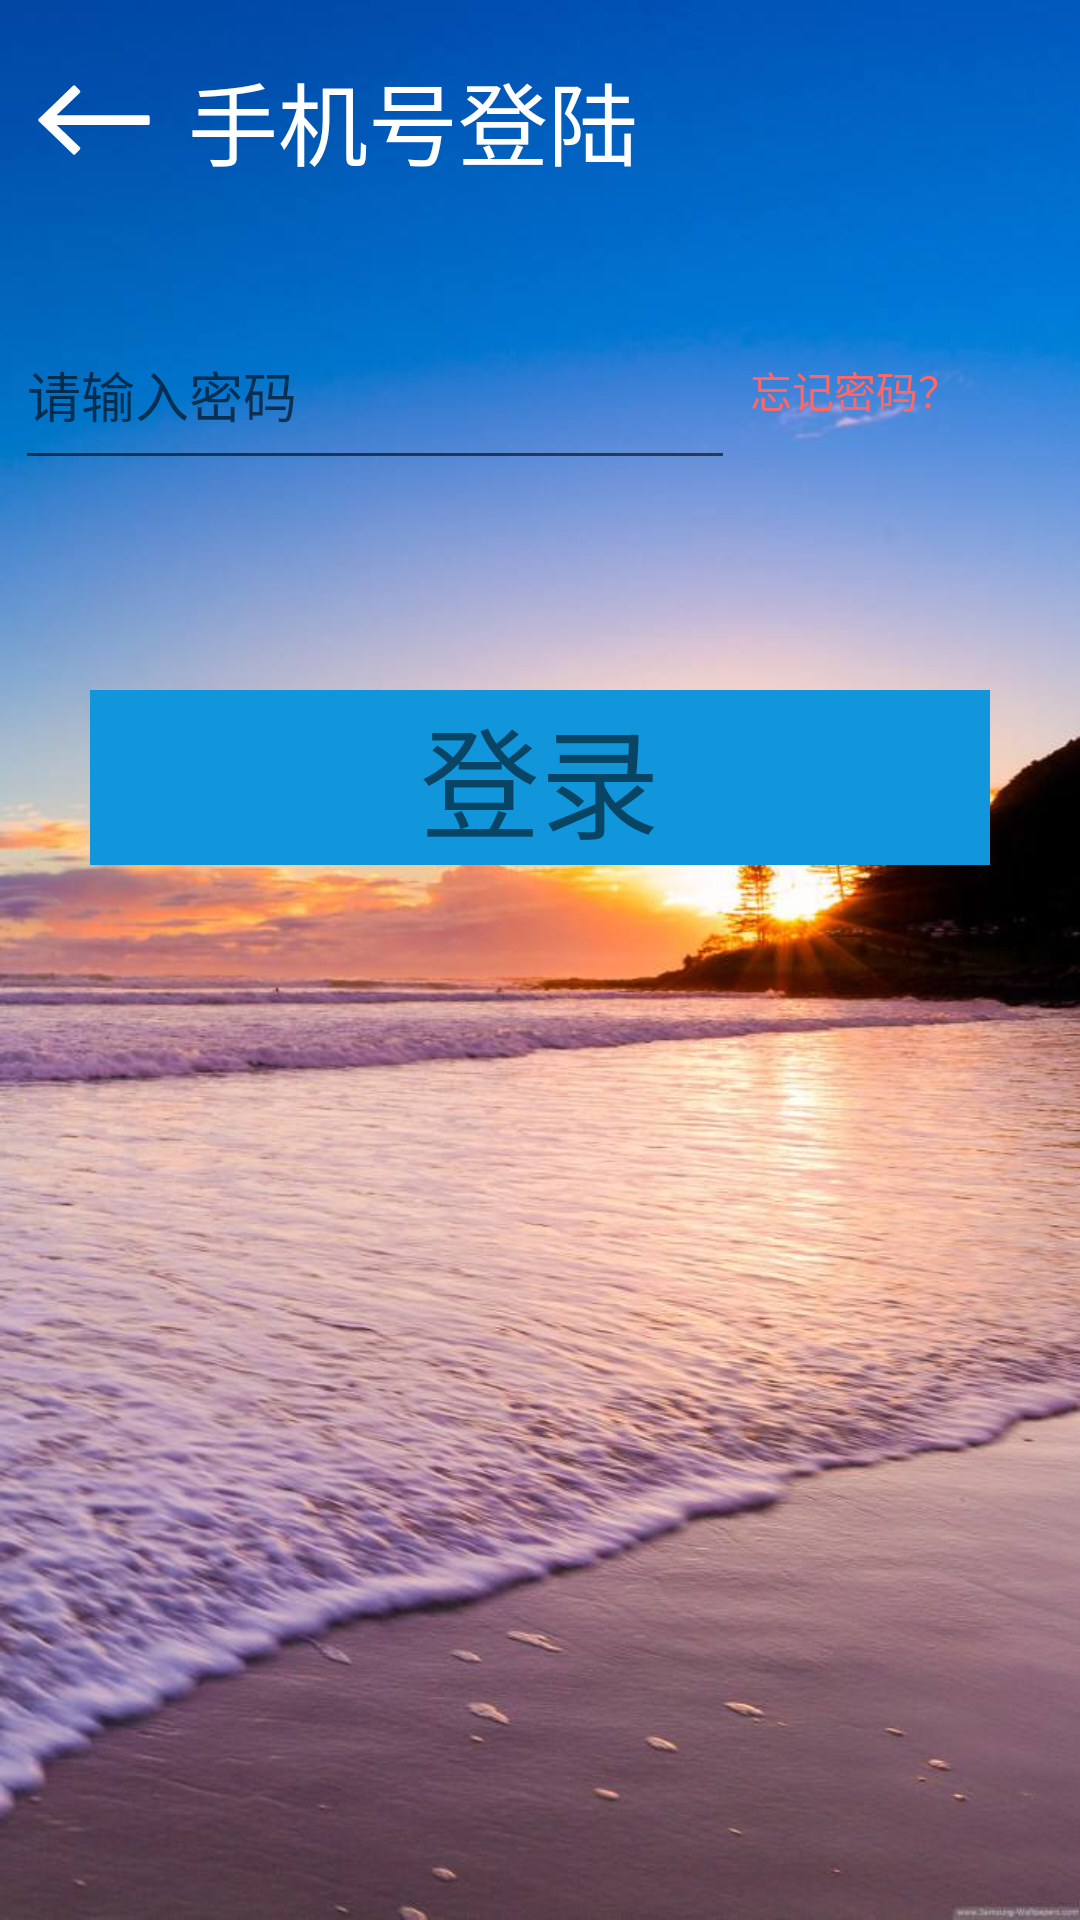

Point at icon controls on the screen. Image size 1080×1920, points as (x=x, y=y).
back: (x=94, y=120)
